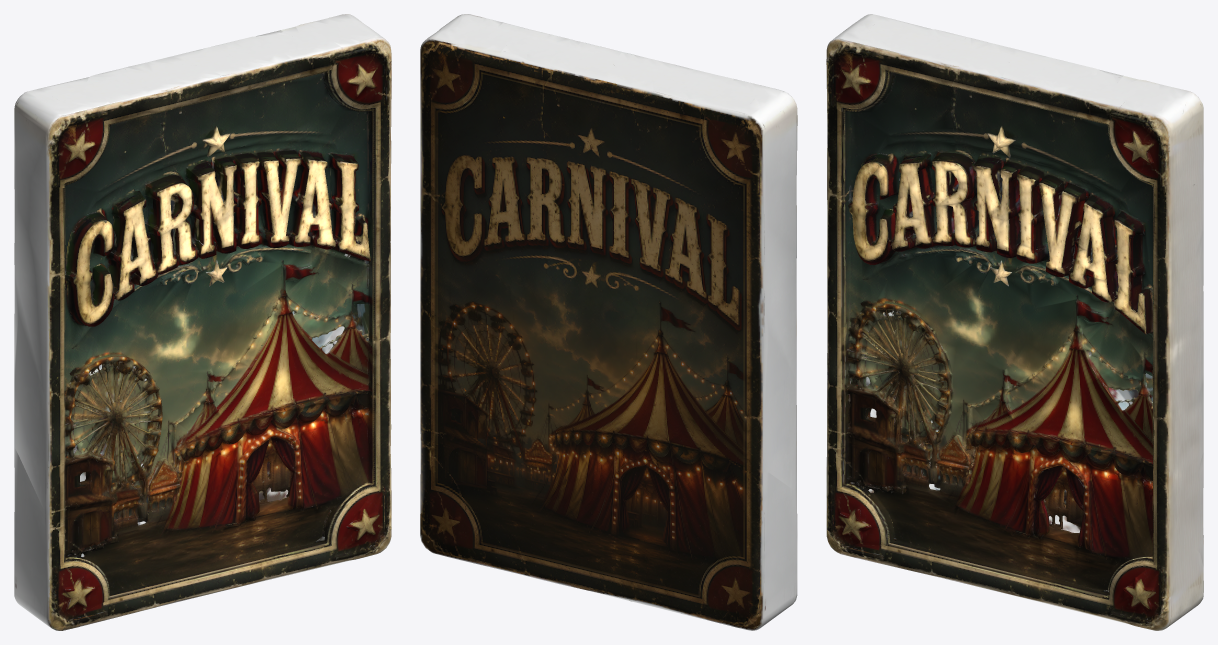
File: Meshy_AI_Midnight_Carnival_0510030754_texture.fbx
3 renders of one model, left to right at view 1: azimuth 30°, elevation 25°; view 2: azimuth 150°, elevation 25°; view 3: azimuth 330°, elevation 25°, orthographic.
Visible parts, largest first — view 1: Mesh_0; view 2: Mesh_0; view 3: Mesh_0.
Boxes of the visible parts, box(x1,y1,x2,y2) form: Mesh_0: box(14, 14, 391, 630); Mesh_0: box(420, 14, 797, 630); Mesh_0: box(826, 14, 1203, 630).
Bounding box in the file's own units: 134 × 191 × 25.46.
1 material, 1 textured.
